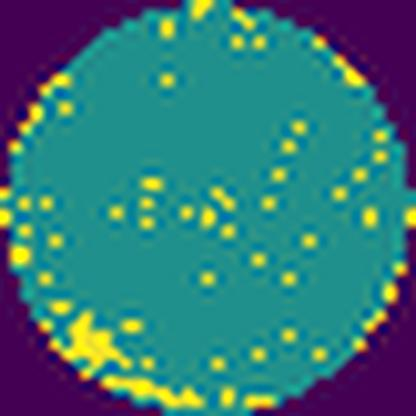Edge-Loc: (47, 307, 136, 385), (98, 372, 204, 408)
